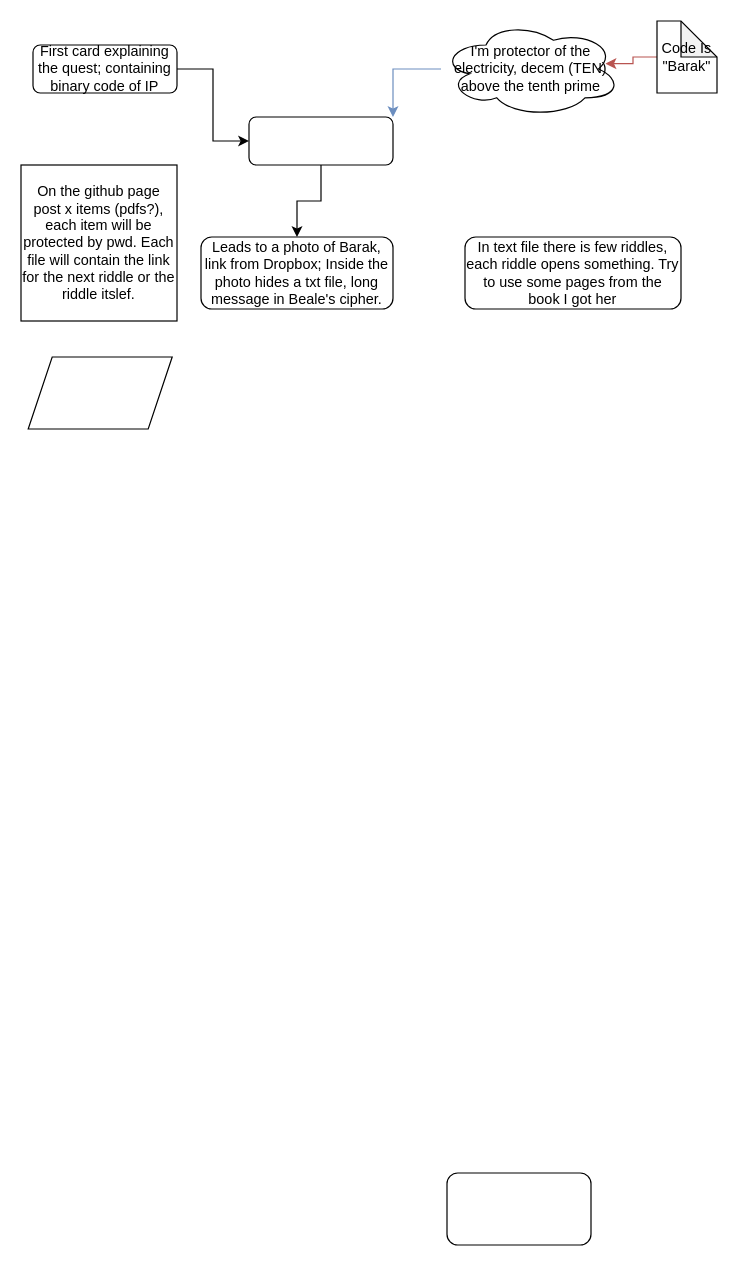
This 738x1266 diagram has some shape labels left out. The centre of each missing label's shape, as x and y in pixels:
"Birthday Letter" goes at point (518, 1208).
"Minutes of movie: 27:12, 20:01 תאריך גיוס + שחרור" goes at point (99, 392).
"Website contain audio file in morse code" goes at point (320, 140).
